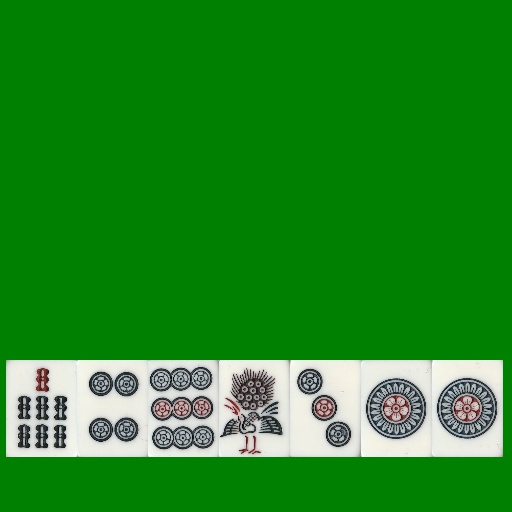1p: (361, 360, 432, 457), (432, 360, 503, 457)
1s: (219, 360, 290, 457)
3p: (290, 360, 361, 457)
4p: (77, 360, 148, 457)
7s: (6, 360, 77, 457)
9p: (148, 360, 219, 457)
